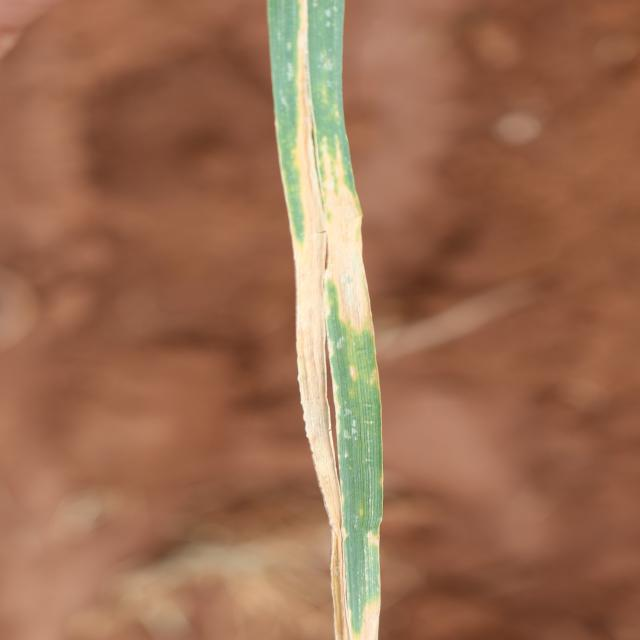Septoria: (278, 139, 378, 333), (295, 339, 344, 512), (296, 2, 313, 140)
